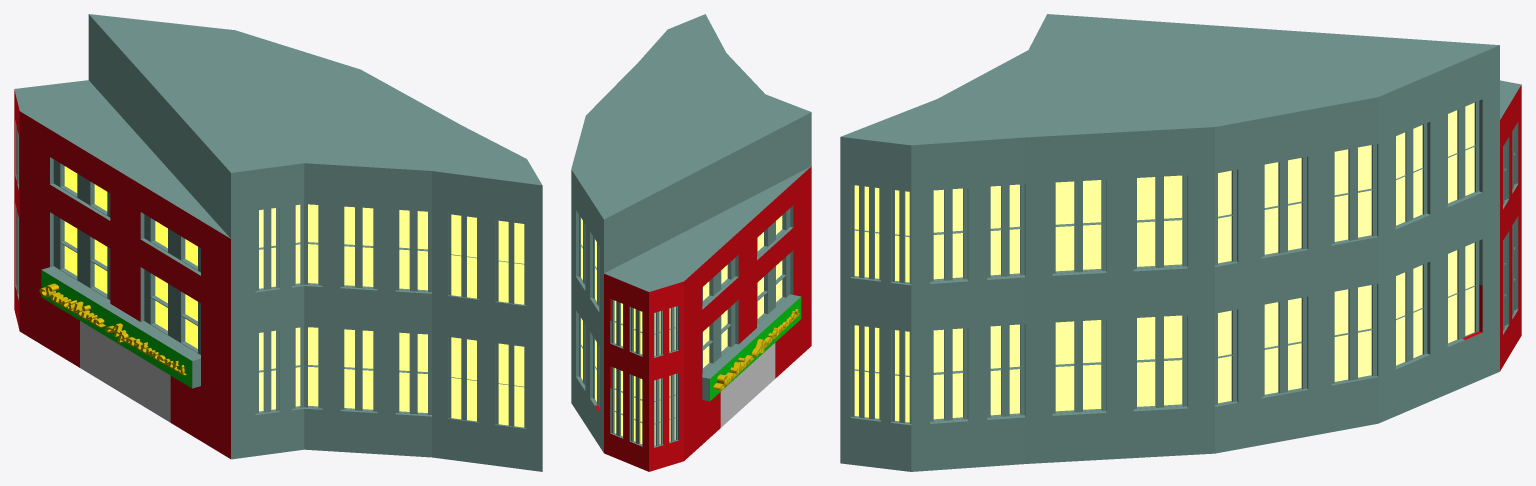
File: sunshine_apartments.fbx
The picture shows the model from 3 angles, left to right: view 1: azimuth 30°, elevation 25°; view 2: azimuth 150°, elevation 25°; view 3: azimuth 270°, elevation 25°; orthographic projection. The views are drawn at different scales.
Parts seen in each view (by area): view 1: sunshine_apartments; view 2: sunshine_apartments; view 3: sunshine_apartments.
Boxes of the visible parts, x1,y1,x2,y2 form: sunshine_apartments: (14,14,542,471); sunshine_apartments: (571,14,811,471); sunshine_apartments: (840,14,1521,471).
Bounding box in the file's own units: 524 × 520 × 983.
